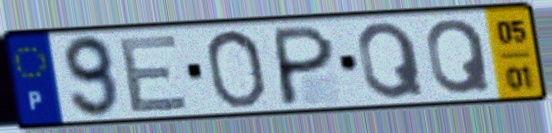9: (59, 32, 124, 122)
E: (116, 31, 192, 116)
O: (202, 26, 269, 111)
P: (273, 22, 338, 108)
Q: (355, 18, 429, 102), (424, 16, 495, 98)
